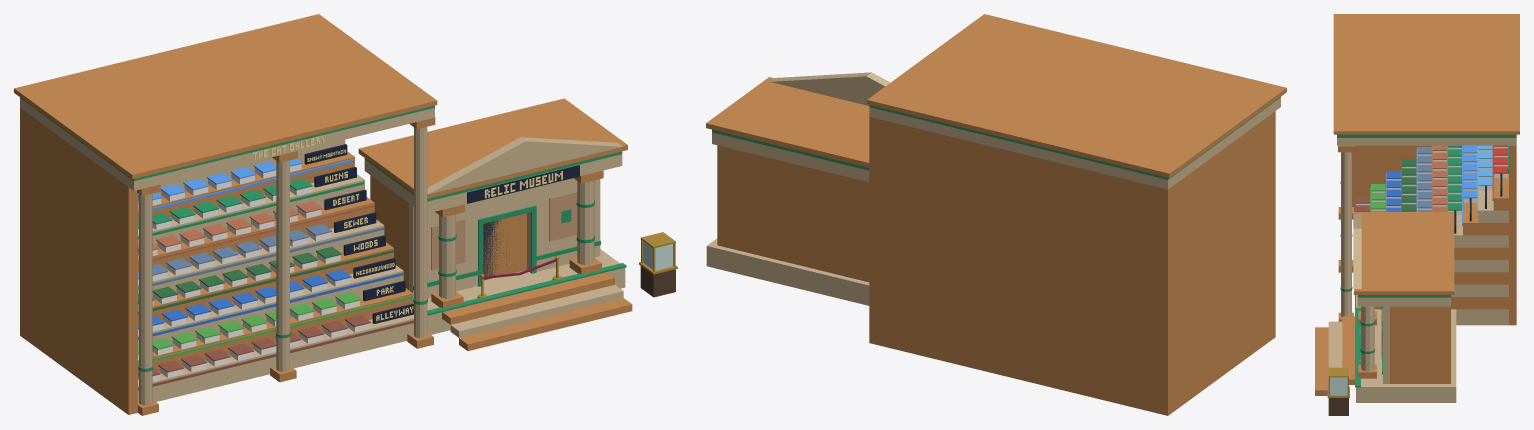
The model's file is CatCafe_Camp_Ruins_RelicMuseum.glb.
The picture shows the model from 3 angles, left to right: view 1: azimuth 30°, elevation 25°; view 2: azimuth 150°, elevation 25°; view 3: azimuth 270°, elevation 25°; orthographic projection. The views are drawn at different scales.
Parts seen in each view (by area): view 1: CatCafe_Camp_Ruins_RelicMuseum, CatCafe_Camp_Ruins_RelicMuseum_Glass; view 2: CatCafe_Camp_Ruins_RelicMuseum; view 3: CatCafe_Camp_Ruins_RelicMuseum, CatCafe_Camp_Ruins_RelicMuseum_Glass.
Part boxes in pixels (<box>): CatCafe_Camp_Ruins_RelicMuseum: <box>14,14,677,415</box>; CatCafe_Camp_Ruins_RelicMuseum_Glass: <box>643,241,673,270</box>; CatCafe_Camp_Ruins_RelicMuseum: <box>706,14,1286,415</box>; CatCafe_Camp_Ruins_RelicMuseum: <box>1315,14,1519,415</box>; CatCafe_Camp_Ruins_RelicMuseum_Glass: <box>1330,377,1347,395</box>.
Bounding box in the file's own units: 28.96 × 12.6 × 12.05.
Materials: 1 (1 with a texture image).
